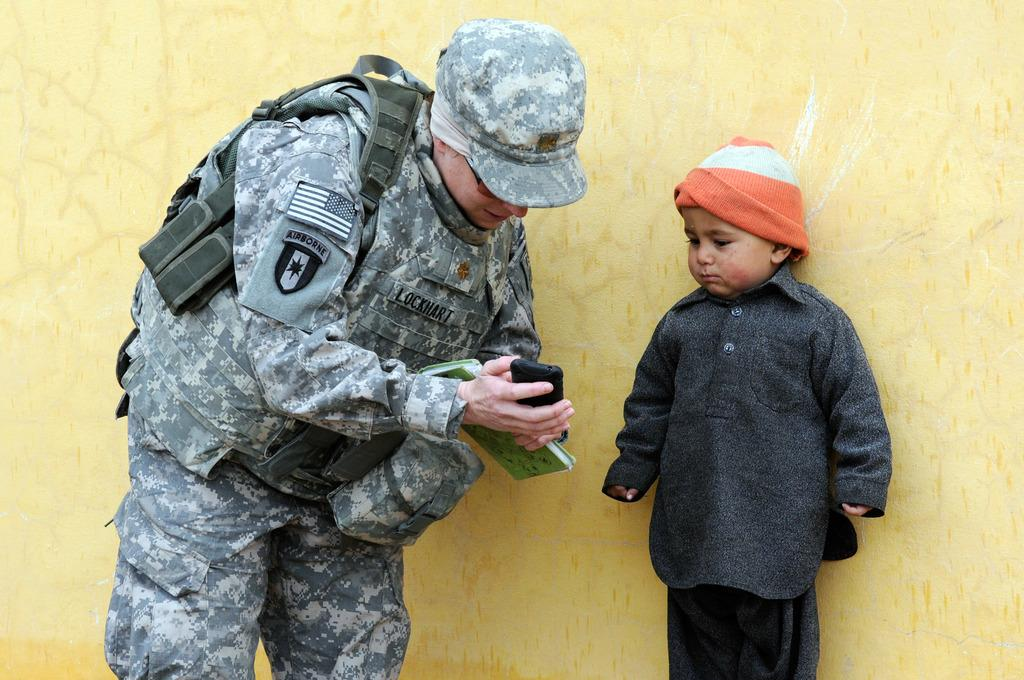Hat: (432, 13, 588, 211)
